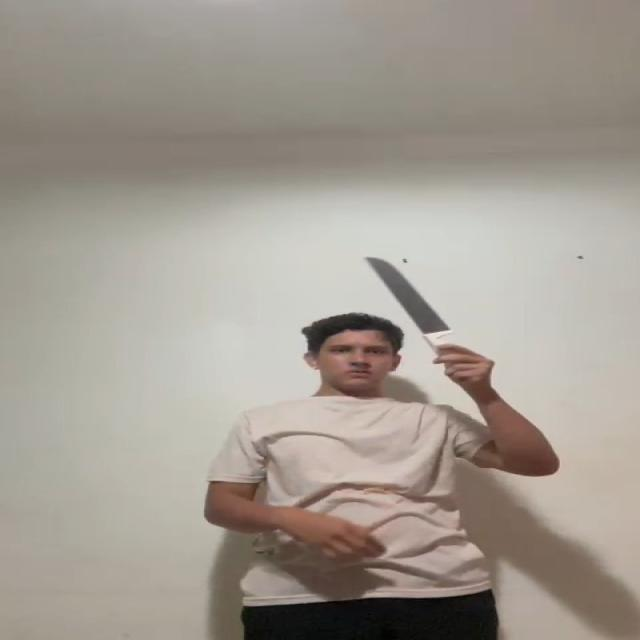knife: (364, 253, 446, 328)
